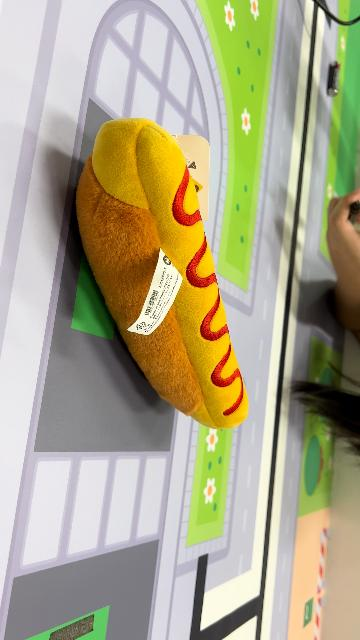hotdog: (75, 116, 251, 432)
